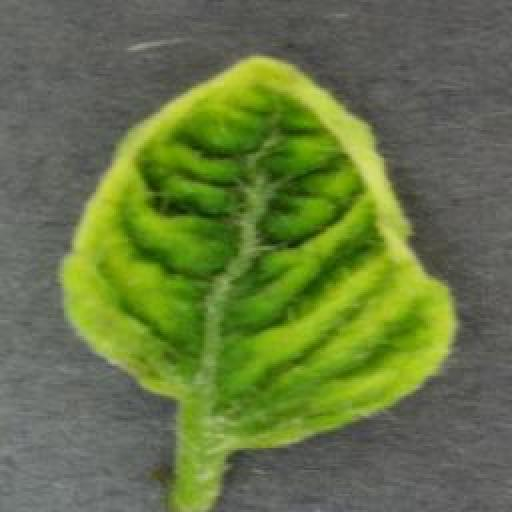Yellow Leaf Curl Virus: (60, 53, 459, 451)
